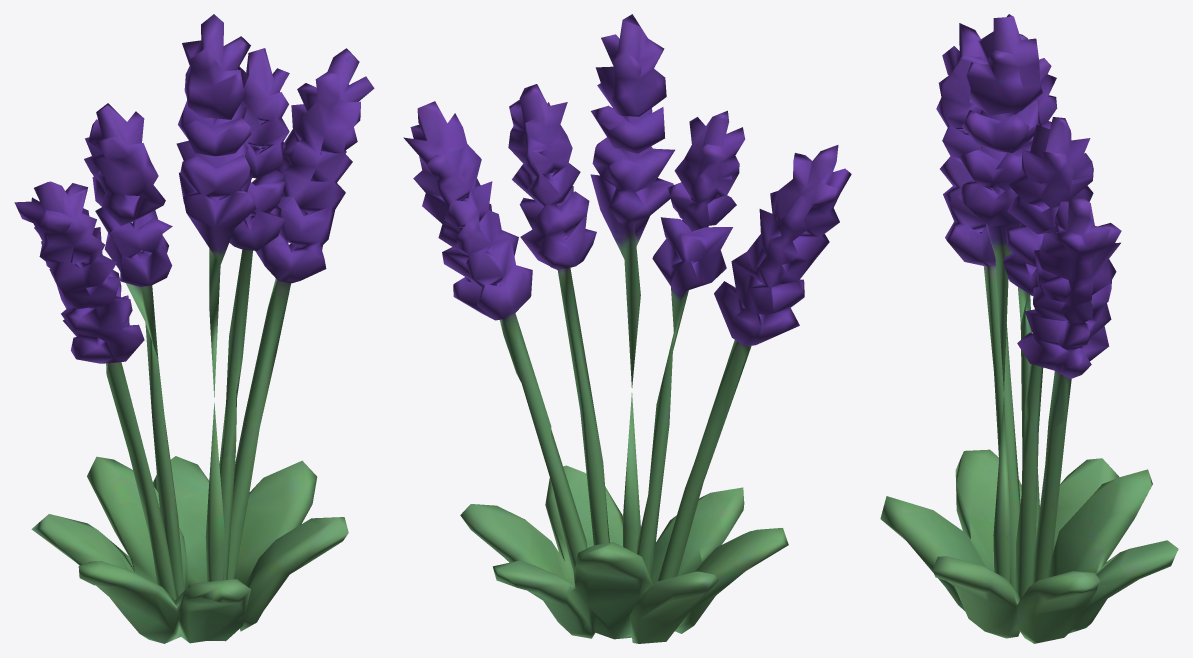
The model's file is 44c-lavanda.glb.
3 renders of one model, left to right at view 1: azimuth 30°, elevation 25°; view 2: azimuth 150°, elevation 25°; view 3: azimuth 270°, elevation 25°, orthographic. The views are drawn at different scales.
Visible parts, largest first — view 1: tripo_node_8838cb28-8ae8-47d3-8607-85fb4af7bbeb; view 2: tripo_node_8838cb28-8ae8-47d3-8607-85fb4af7bbeb; view 3: tripo_node_8838cb28-8ae8-47d3-8607-85fb4af7bbeb.
Boxes of the visible parts, x1,y1,x2,y2 form: tripo_node_8838cb28-8ae8-47d3-8607-85fb4af7bbeb: (14, 14, 374, 643); tripo_node_8838cb28-8ae8-47d3-8607-85fb4af7bbeb: (403, 14, 851, 643); tripo_node_8838cb28-8ae8-47d3-8607-85fb4af7bbeb: (880, 14, 1178, 643).
Size of the model in its own units: 0.6748 by 1 by 0.4443.
Materials: 1 (1 with a texture image).
